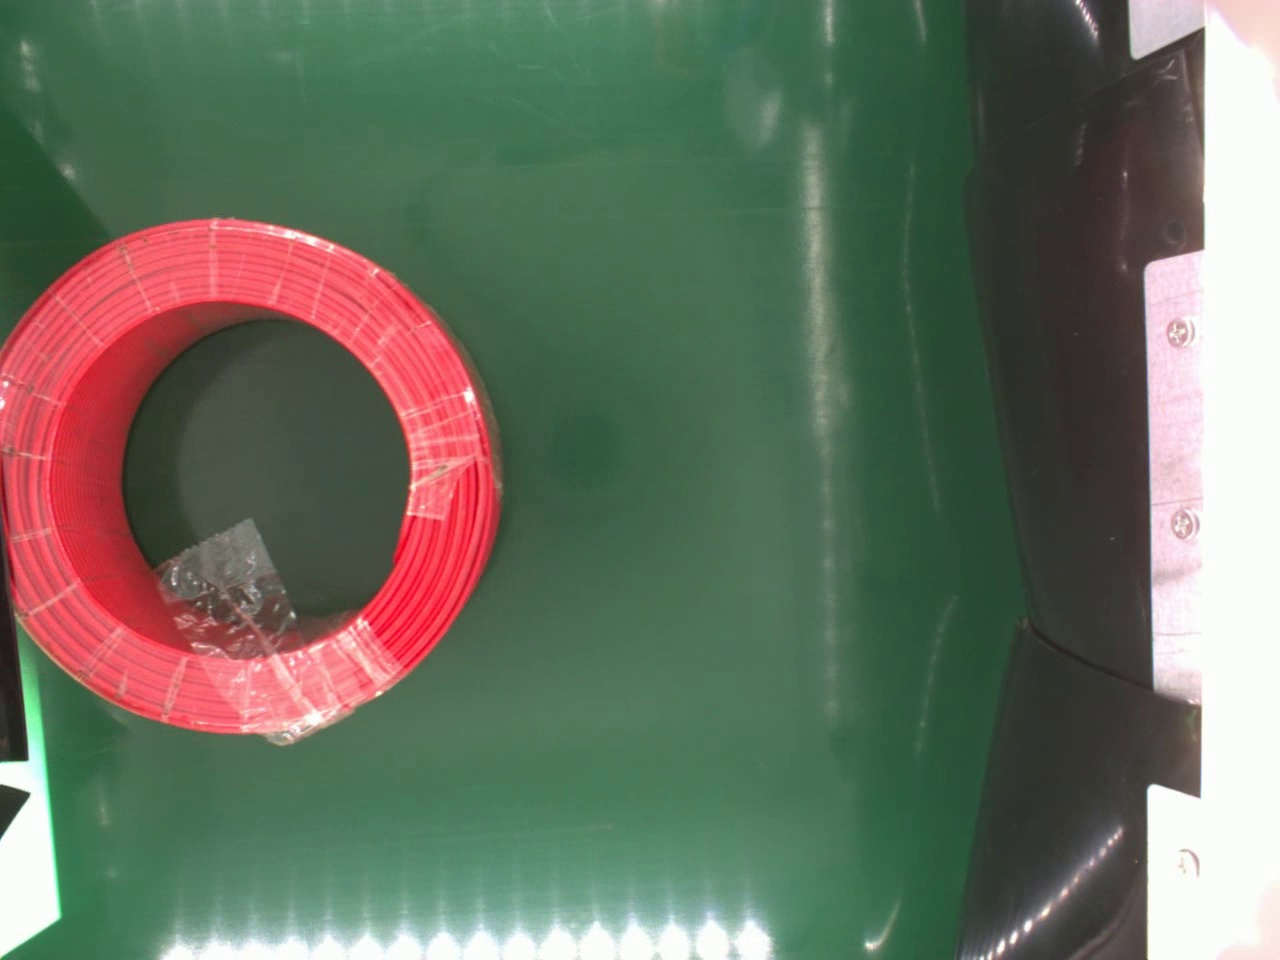red: (0, 214, 501, 744)
